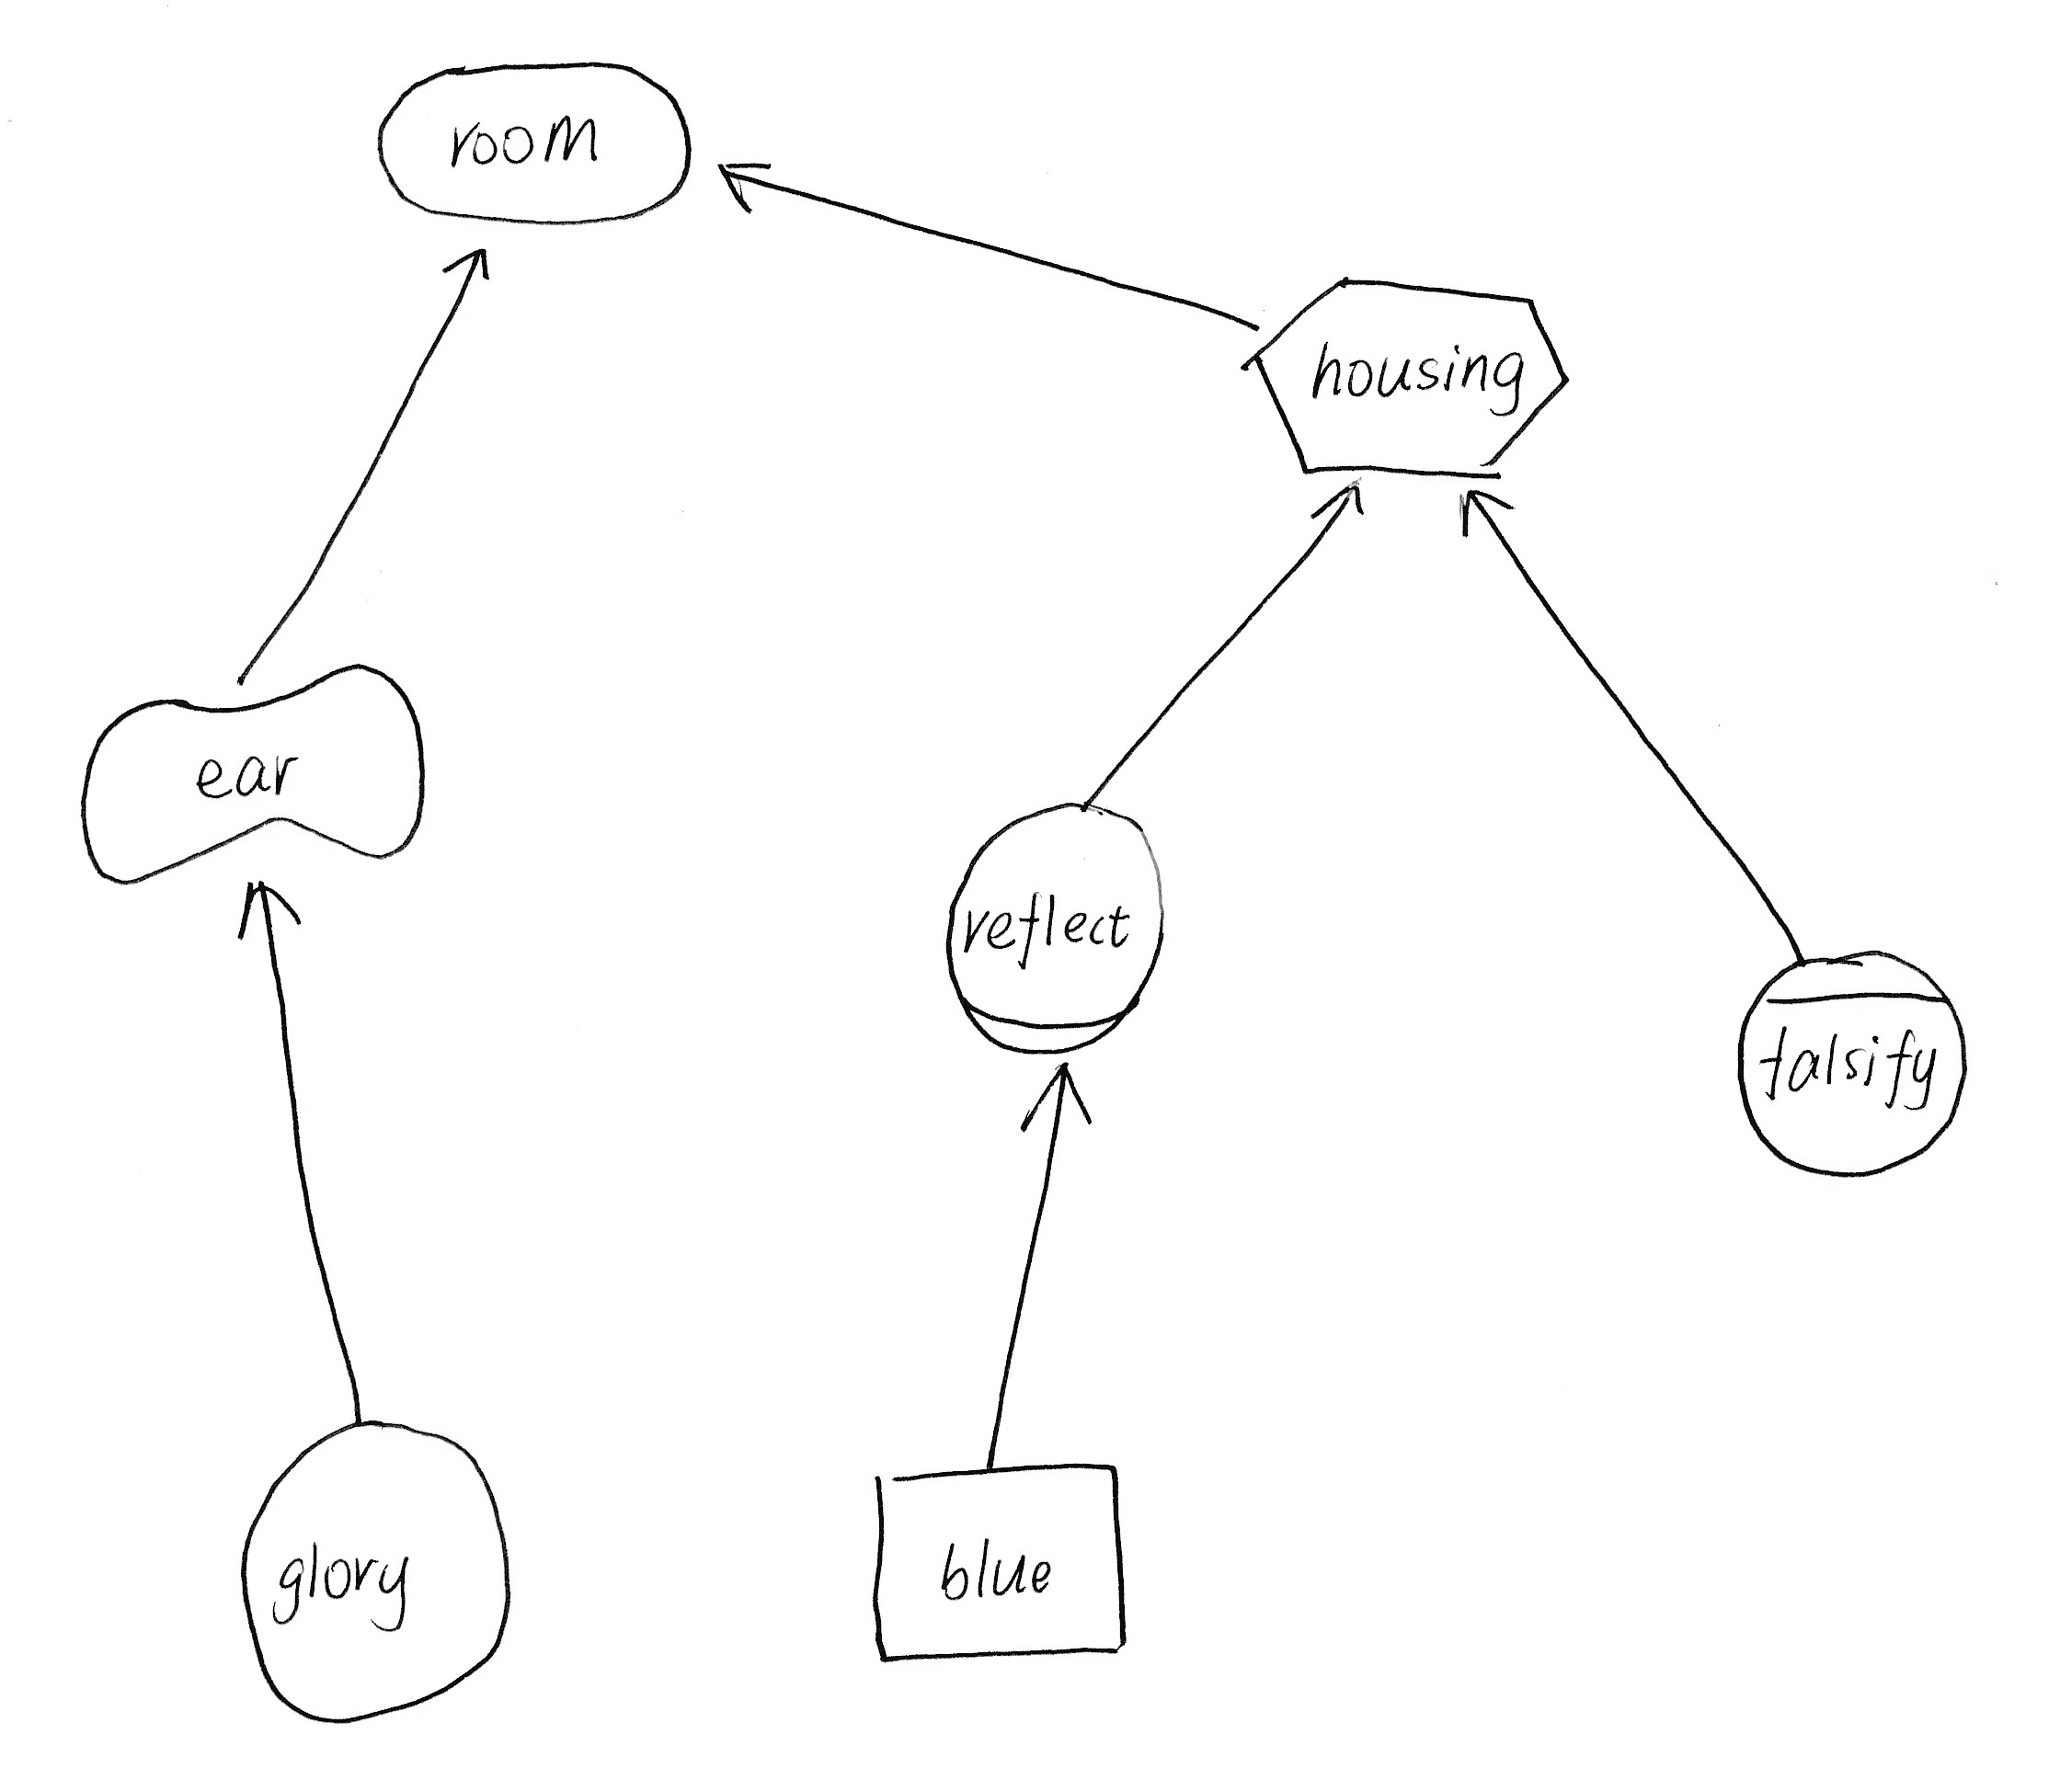actor: (222, 1400, 527, 1739)
agent: (1717, 934, 1993, 1188)
arrow: (1002, 1053, 1104, 1139), (222, 865, 307, 955), (1438, 469, 1524, 545), (1303, 468, 1384, 543), (706, 145, 785, 219), (436, 235, 508, 305)
goal: (357, 40, 713, 242)
quality: (63, 648, 447, 897)
resource: (848, 1445, 1151, 1682)
role: (927, 774, 1184, 1072)
task: (1230, 261, 1592, 503)
